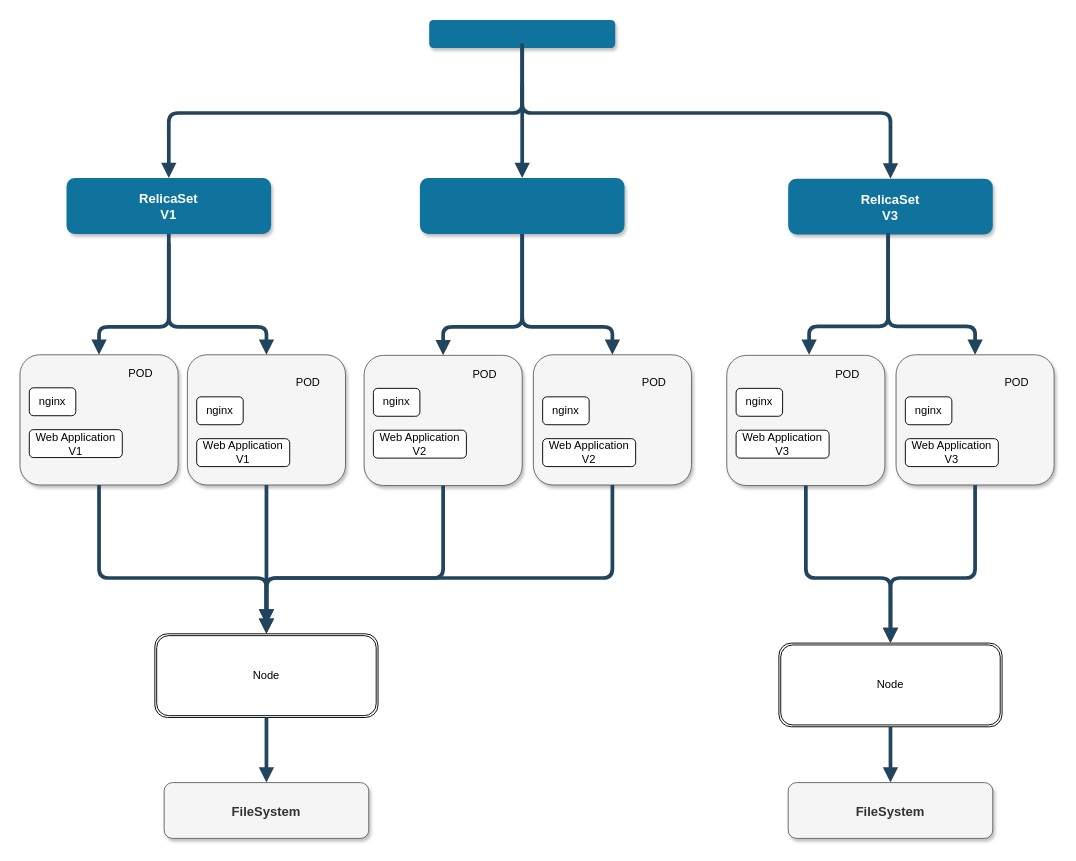
Some shapes in this 1076 by 861 pixel diagram are drawn without their labels. The shapes that lost their labels are listed below. From the top down, each one's centre as x and y in pixels, then its label:
the point at 522,35: StatefulSet
the point at 523,207: RelicaSet V2
